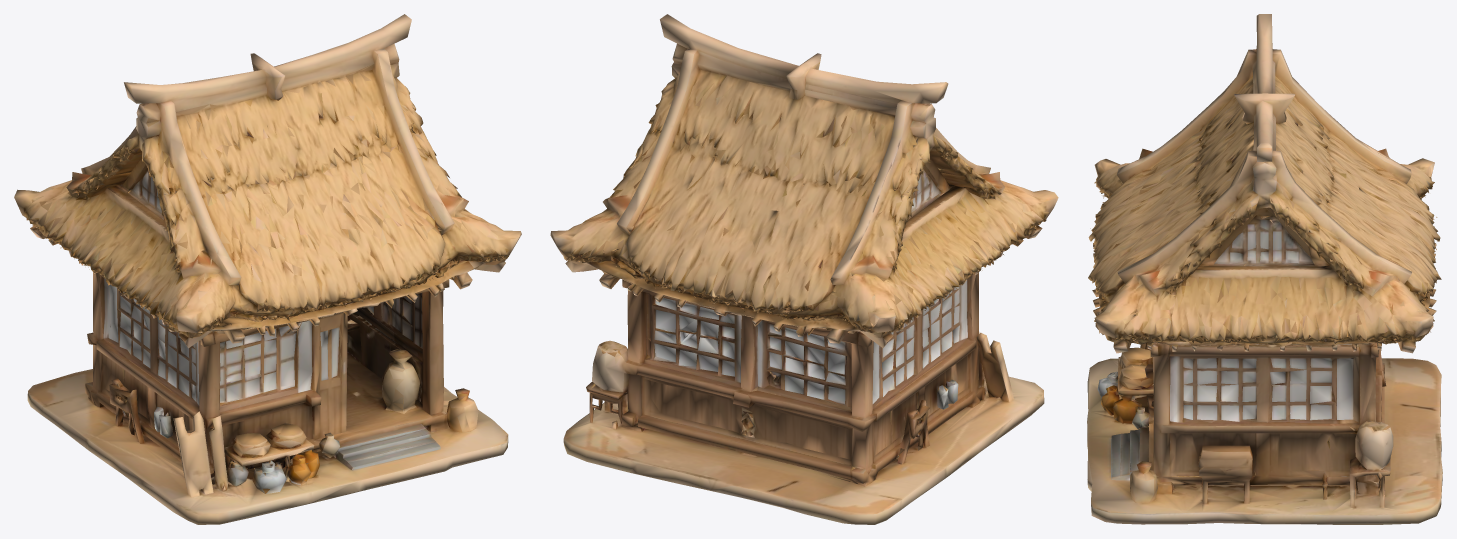
The model's file is A_3D_image_a_a_tradit.glb.
3 renders of one model, left to right at view 1: azimuth 30°, elevation 25°; view 2: azimuth 150°, elevation 25°; view 3: azimuth 270°, elevation 25°, orthographic. The views are drawn at different scales.
Parts seen in each view (by area): view 1: A_3D_image_a_a_tradit; view 2: A_3D_image_a_a_tradit; view 3: A_3D_image_a_a_tradit.
Part boxes in pixels (x1,y1,x2,y2): A_3D_image_a_a_tradit: (14,14,521,524); A_3D_image_a_a_tradit: (550,14,1058,524); A_3D_image_a_a_tradit: (1087,14,1442,524).
Size of the model in its own units: 1.82 by 1.9 by 1.67.
1 material, 1 textured.
